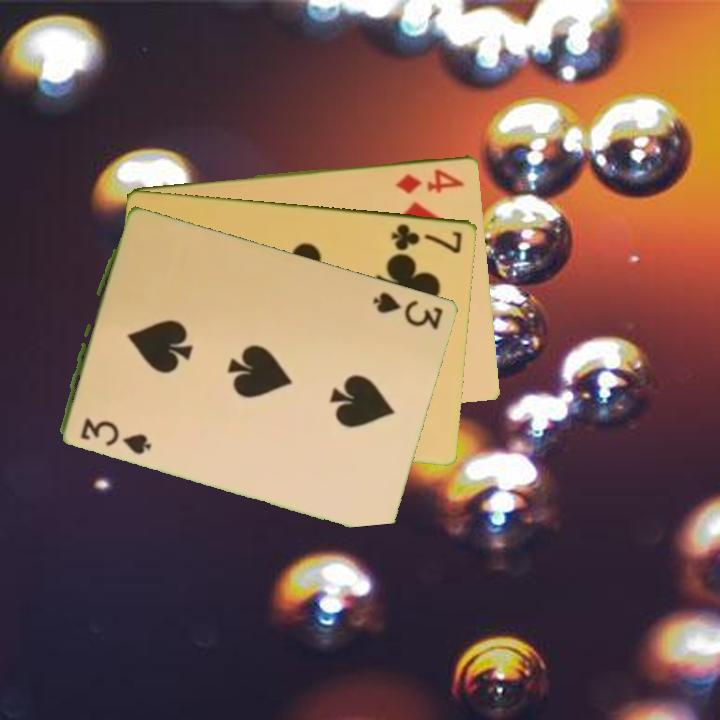3s: (369, 288, 447, 332), (77, 414, 151, 457)
4d: (391, 165, 467, 196)
7c: (388, 220, 465, 256)
